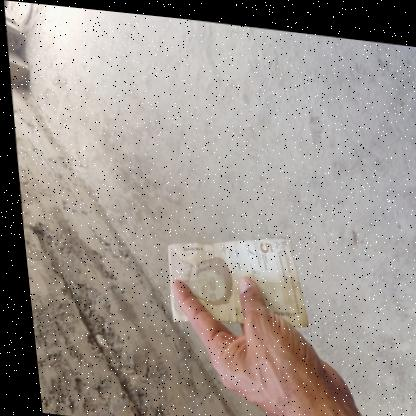vef_front: (156, 220, 304, 331)
